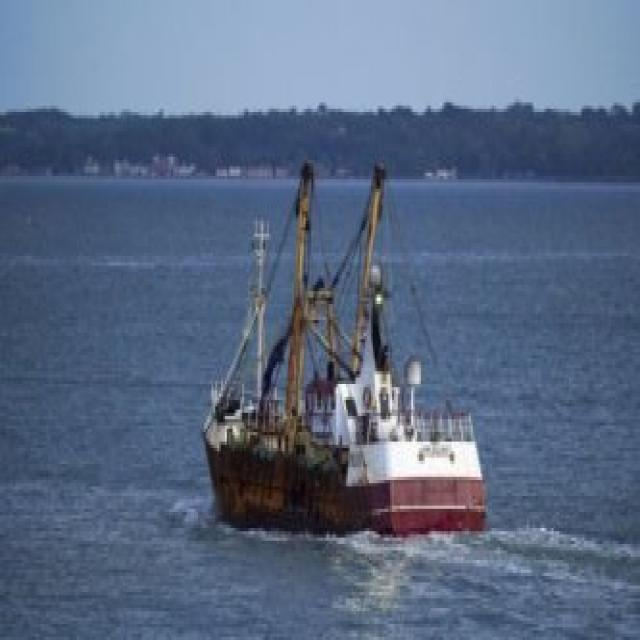Ship: (188, 142, 513, 565)
